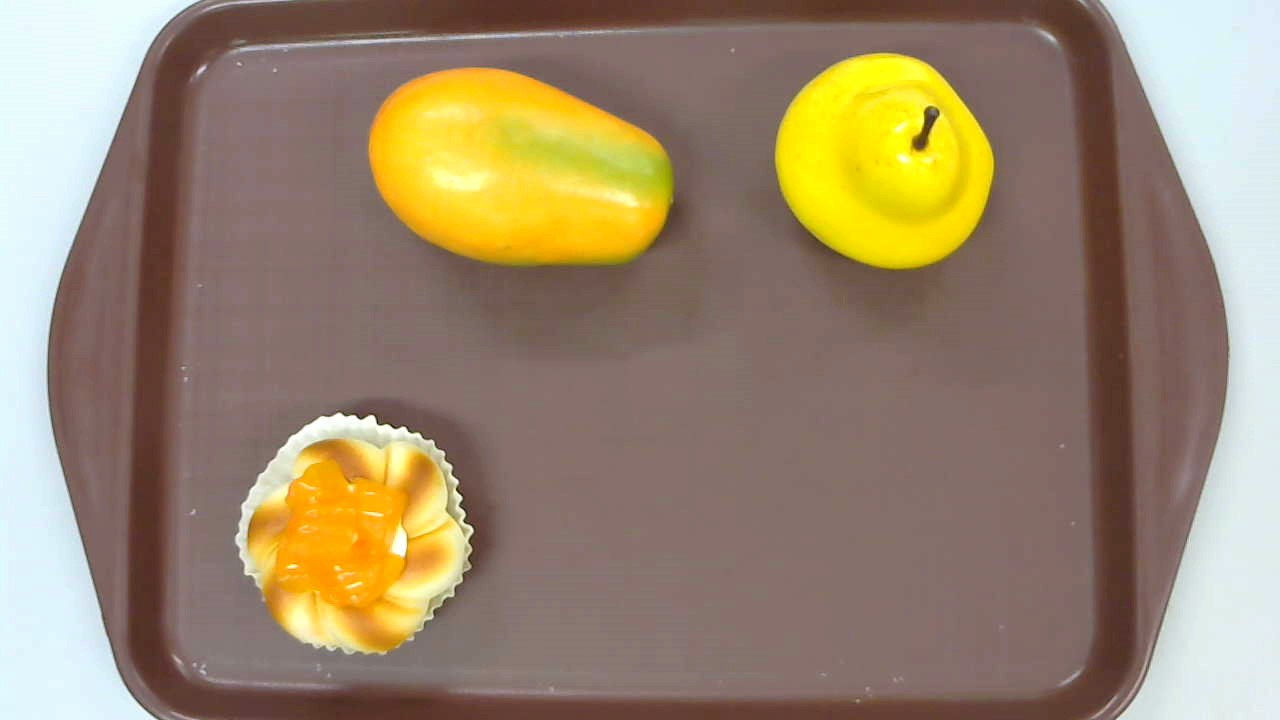mango tart: (235, 411, 478, 657)
papya: (368, 67, 674, 270)
yellow pear: (774, 52, 994, 272)
